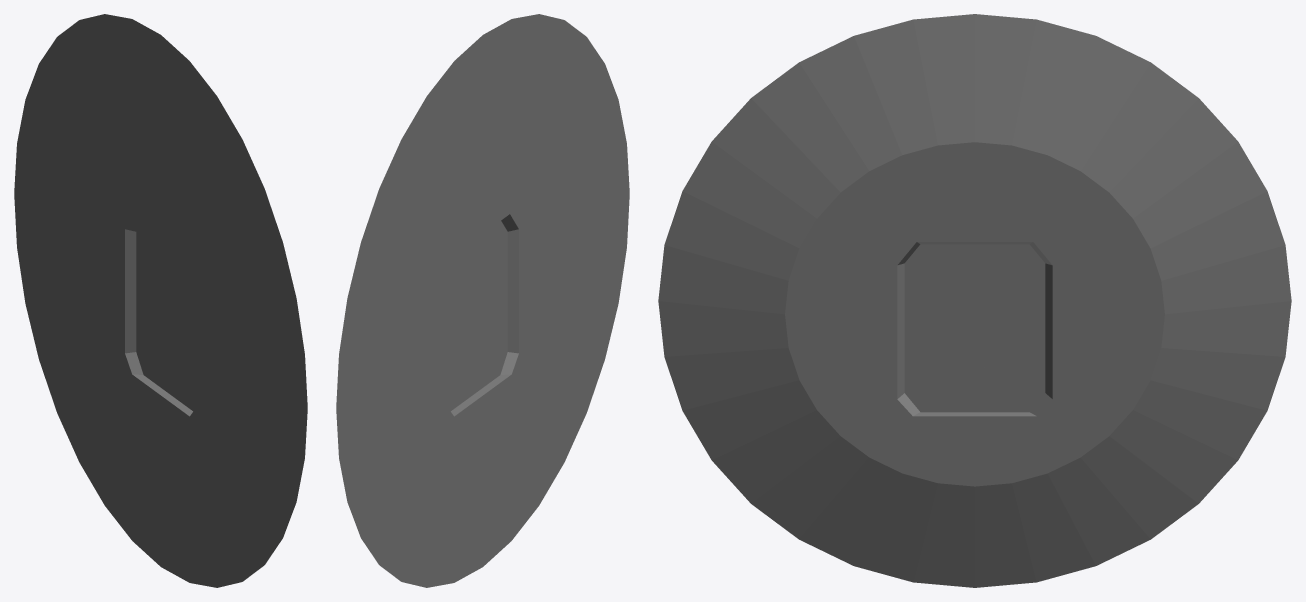
File: Puerta.fbx
3 renders of one model, left to right at view 1: azimuth 30°, elevation 25°; view 2: azimuth 150°, elevation 25°; view 3: azimuth 270°, elevation 25°, orthographic. The views are drawn at different scales.
Parts seen in each view (by area): view 1: MarcoPuerta, PuertaMacho, PuertaHembra; view 2: MarcoPuerta, PuertaHembra, PuertaMacho; view 3: MarcoPuerta, PuertaHembra, PuertaMacho.
Part boxes in pixels (bbox=[...]): MarcoPuerta: bbox=[14, 14, 307, 587]; PuertaMacho: bbox=[136, 221, 173, 389]; PuertaHembra: bbox=[164, 236, 196, 411]; MarcoPuerta: bbox=[336, 14, 629, 587]; PuertaHembra: bbox=[470, 221, 507, 396]; PuertaMacho: bbox=[447, 243, 479, 411]; MarcoPuerta: bbox=[658, 14, 1291, 587]; PuertaHembra: bbox=[904, 244, 984, 412]; PuertaMacho: bbox=[965, 244, 1045, 412].
Bounding box in the file's own units: 100 × 2000 × 2000.
3 materials, 3 textured.
